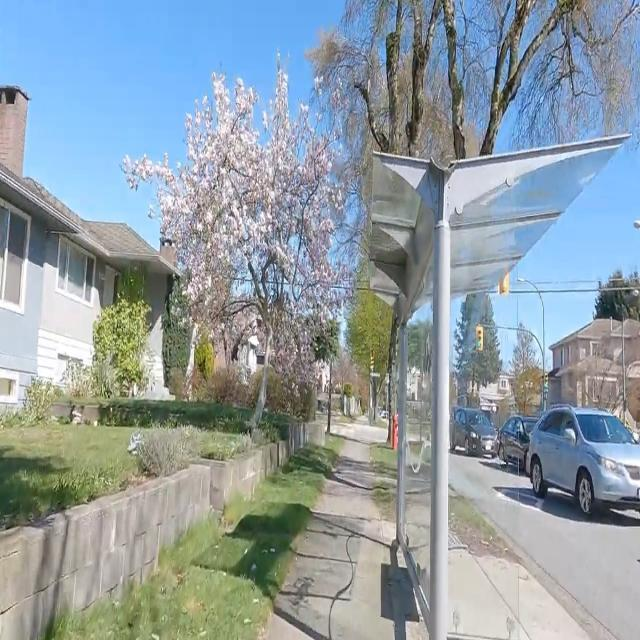Automobile: (450, 405, 639, 514)
Obstacle: (368, 136, 624, 639), (387, 315, 397, 446), (326, 360, 331, 433)
Road: (449, 456, 639, 639)
Sidewalk: (265, 441, 425, 639), (448, 549, 588, 639)
